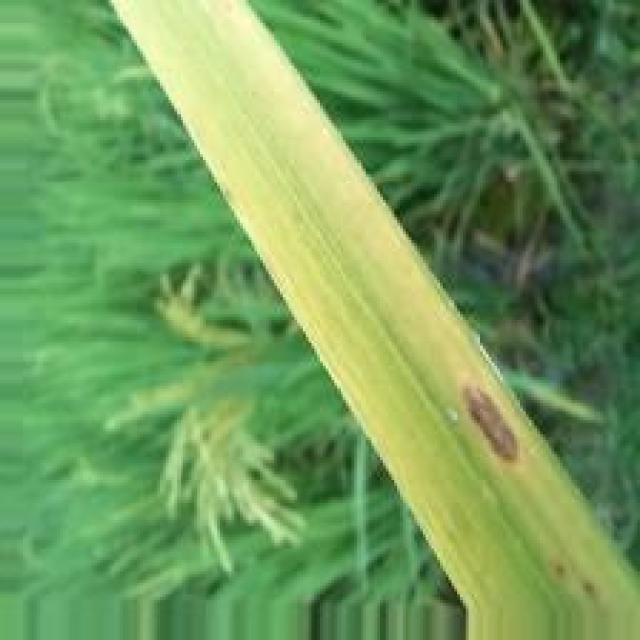Brown_Spot: (462, 385, 517, 472)
